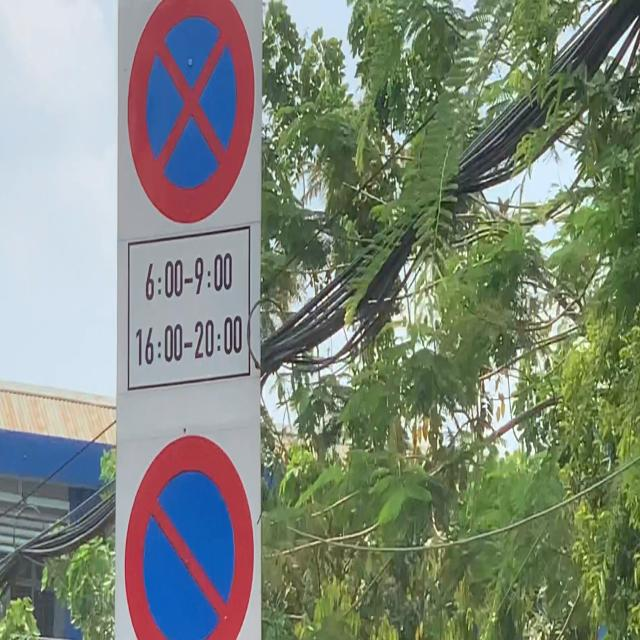Cam dung va do: (122, 0, 259, 234)
